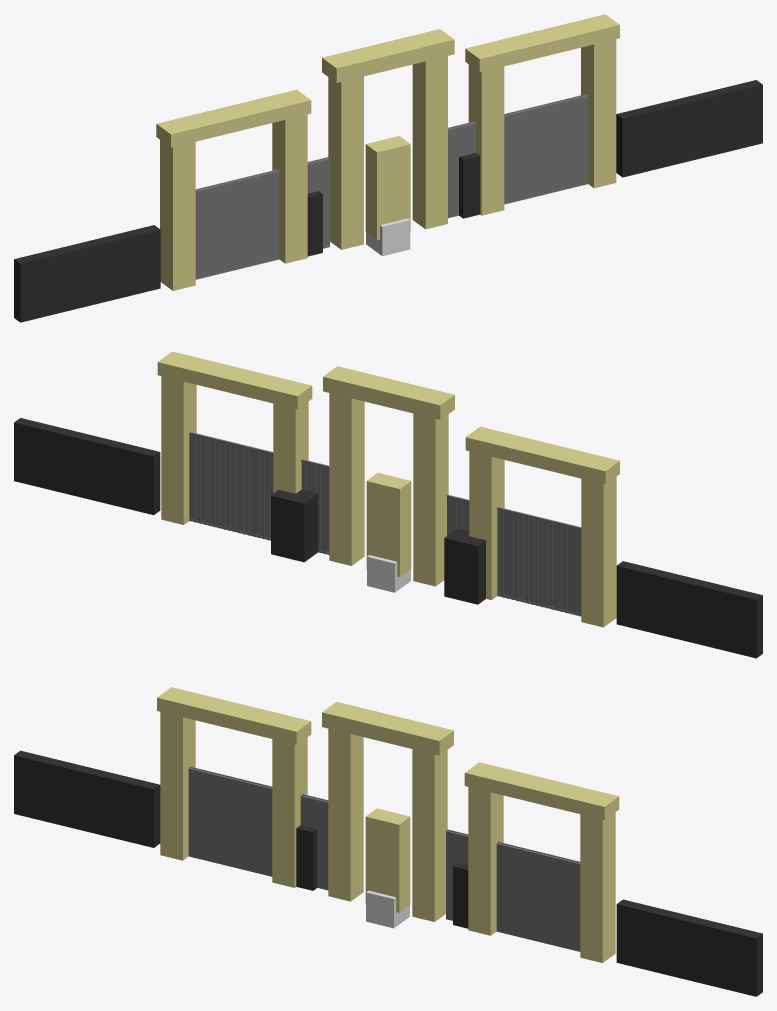
File: MainGate.glb
The picture shows the model from 3 angles, top to bottom: view 1: azimuth 30°, elevation 25°; view 2: azimuth 150°, elevation 25°; view 3: azimuth 330°, elevation 25°; orthographic projection.
Visible parts, largest first — view 1: RightWall, LeftWall, CenterPillar2, CenterPillar1, Pillar_0, Pillar_1, Pillar_3, Pillar_2, LeftTop, RightTop, Cube.002, Cube.028 (+9 smaller); view 2: RightWall, LeftWall, CenterPillar2, CenterPillar1, Pillar_0, Pillar_3, RightTop, LeftTop, Monument, CenterTop, Pillar_1, RightRoom (+8 smaller); view 3: RightWall, LeftWall, CenterPillar1, CenterPillar2, Pillar_3, Pillar_0, Pillar_2, Pillar_1, RightTop, LeftTop, Cube.027, Cube.001 (+9 smaller).
Boxes of the visible parts, x1,y1,x2,y2 form: RightWall: (616, 80, 762, 177); LeftWall: (14, 225, 160, 322); CenterPillar2: (412, 56, 447, 229); CenterPillar1: (328, 76, 363, 249); Pillar_0: (160, 140, 195, 290); Pillar_1: (272, 114, 307, 263); Pillar_3: (581, 39, 616, 188); Pillar_2: (468, 64, 504, 215); LeftTop: (156, 89, 311, 147); RightTop: (465, 14, 619, 72); Cube.002: (234, 170, 279, 270); Cube.028: (542, 95, 588, 194); RightWall: (14, 418, 160, 515); LeftWall: (616, 561, 762, 658); CenterPillar2: (329, 393, 364, 565); CenterPillar1: (413, 413, 448, 586); Pillar_0: (581, 476, 616, 627); Pillar_3: (161, 376, 196, 524); RightTop: (157, 351, 312, 409); LeftTop: (465, 426, 619, 484); Monument: (366, 473, 411, 576); CenterTop: (323, 366, 454, 419); Pillar_1: (469, 451, 504, 599); RightRoom: (271, 489, 318, 562); RightWall: (616, 899, 762, 996); LeftWall: (14, 750, 160, 847); CenterPillar1: (328, 728, 363, 901); CenterPillar2: (412, 749, 447, 921); Pillar_3: (580, 812, 615, 962); Pillar_0: (160, 712, 195, 860); Pillar_2: (468, 787, 503, 935); Pillar_1: (272, 737, 307, 887); RightTop: (464, 762, 619, 819); LeftTop: (157, 687, 311, 744); Cube.027: (496, 843, 541, 942); Cube.001: (188, 768, 233, 866).
Size of the model in its own units: 52.99 by 13.5 by 2.8.
